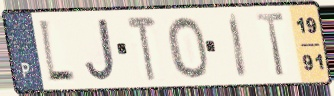I: (226, 11, 250, 81)
J: (83, 16, 118, 84)
L: (35, 17, 77, 86)
O: (165, 15, 211, 81)
T: (124, 14, 159, 83), (253, 10, 287, 79)
